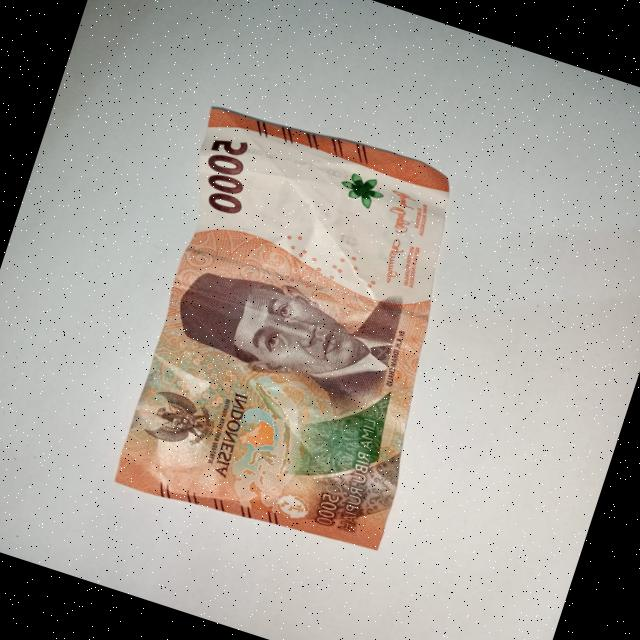5K: (71, 80, 508, 582)
